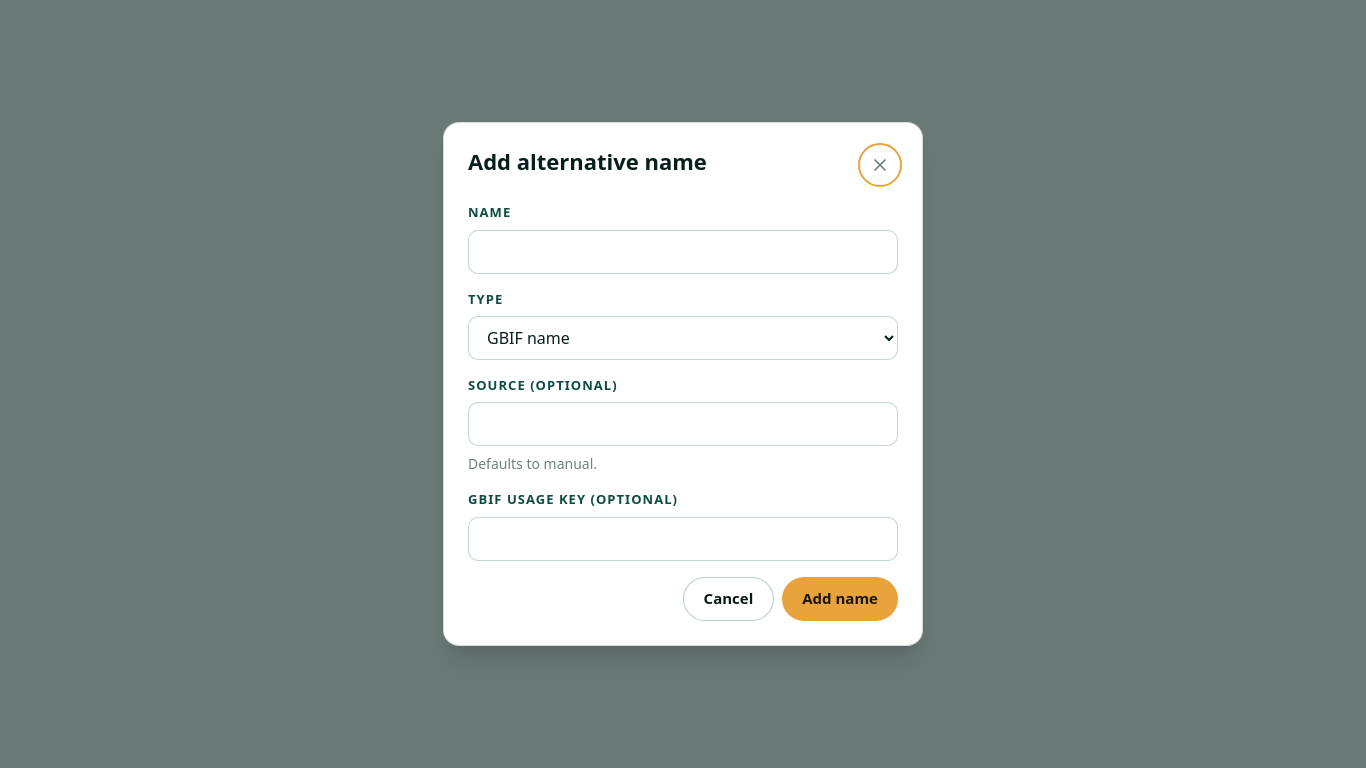
Test: RFC-60 R9 AddNameDialog › shows a VALIDATION_FAILED field message without the Alert alongside it
Type "Adenanthera gersenii" into the field labelled "Name" at (683, 252), box [468,230,898,274]
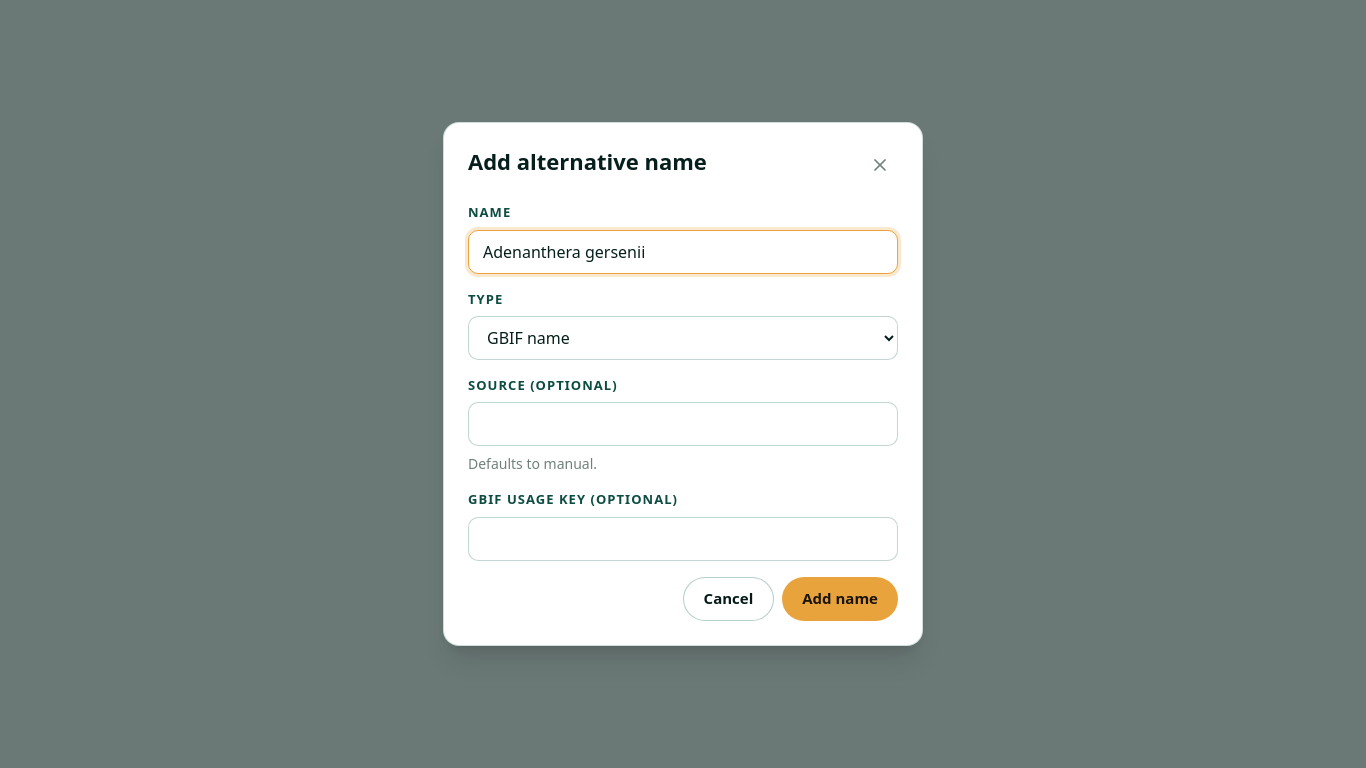
Click the button "Add name" at (840, 598), box [782,576,898,620]
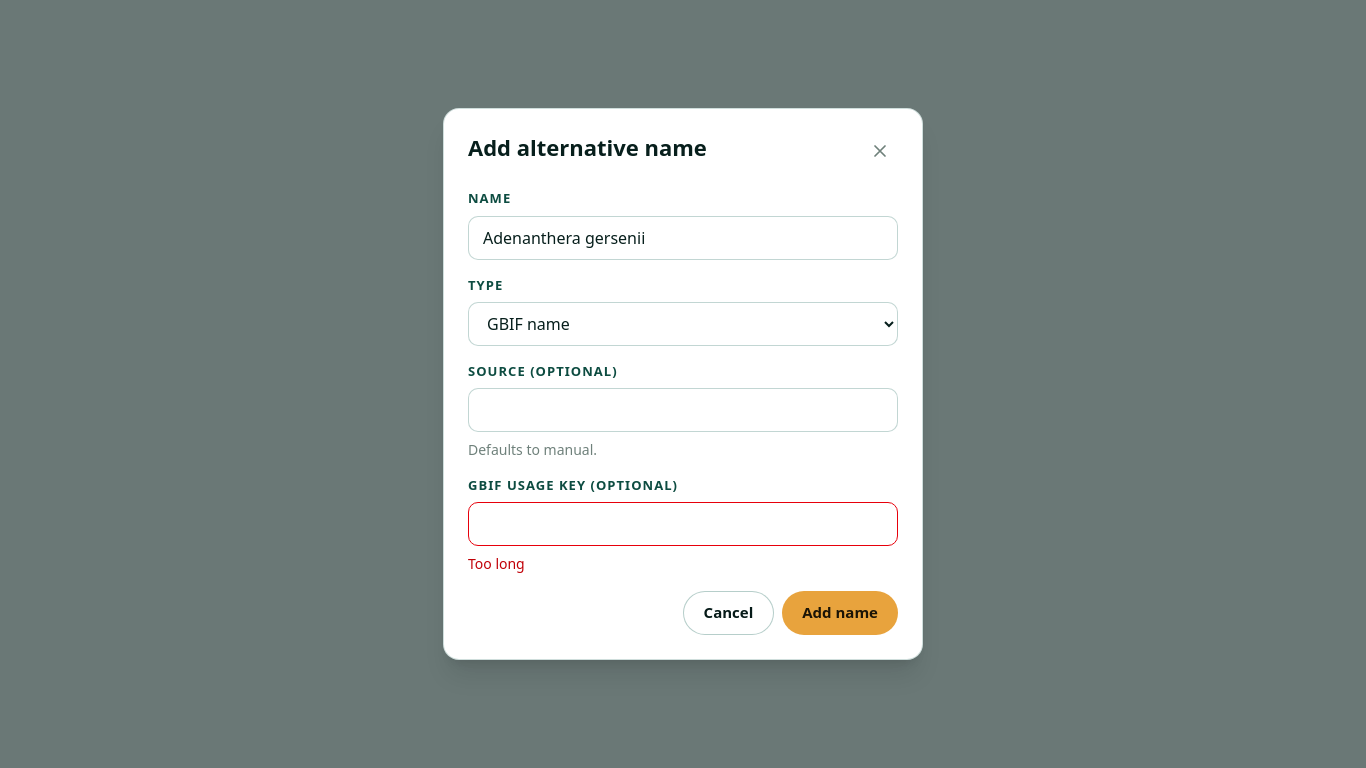
Check: the text "Too long" is shown, box [468,554,525,573]
